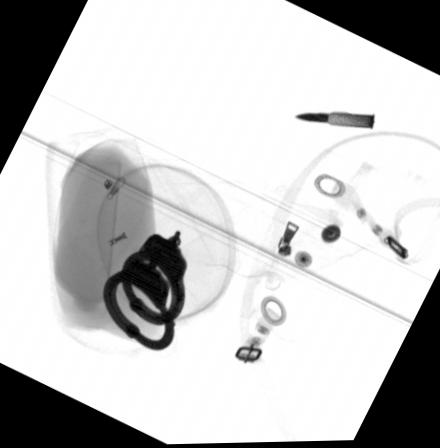Bullet: (293, 111, 373, 130)
HandCuffs: (102, 229, 188, 351)
